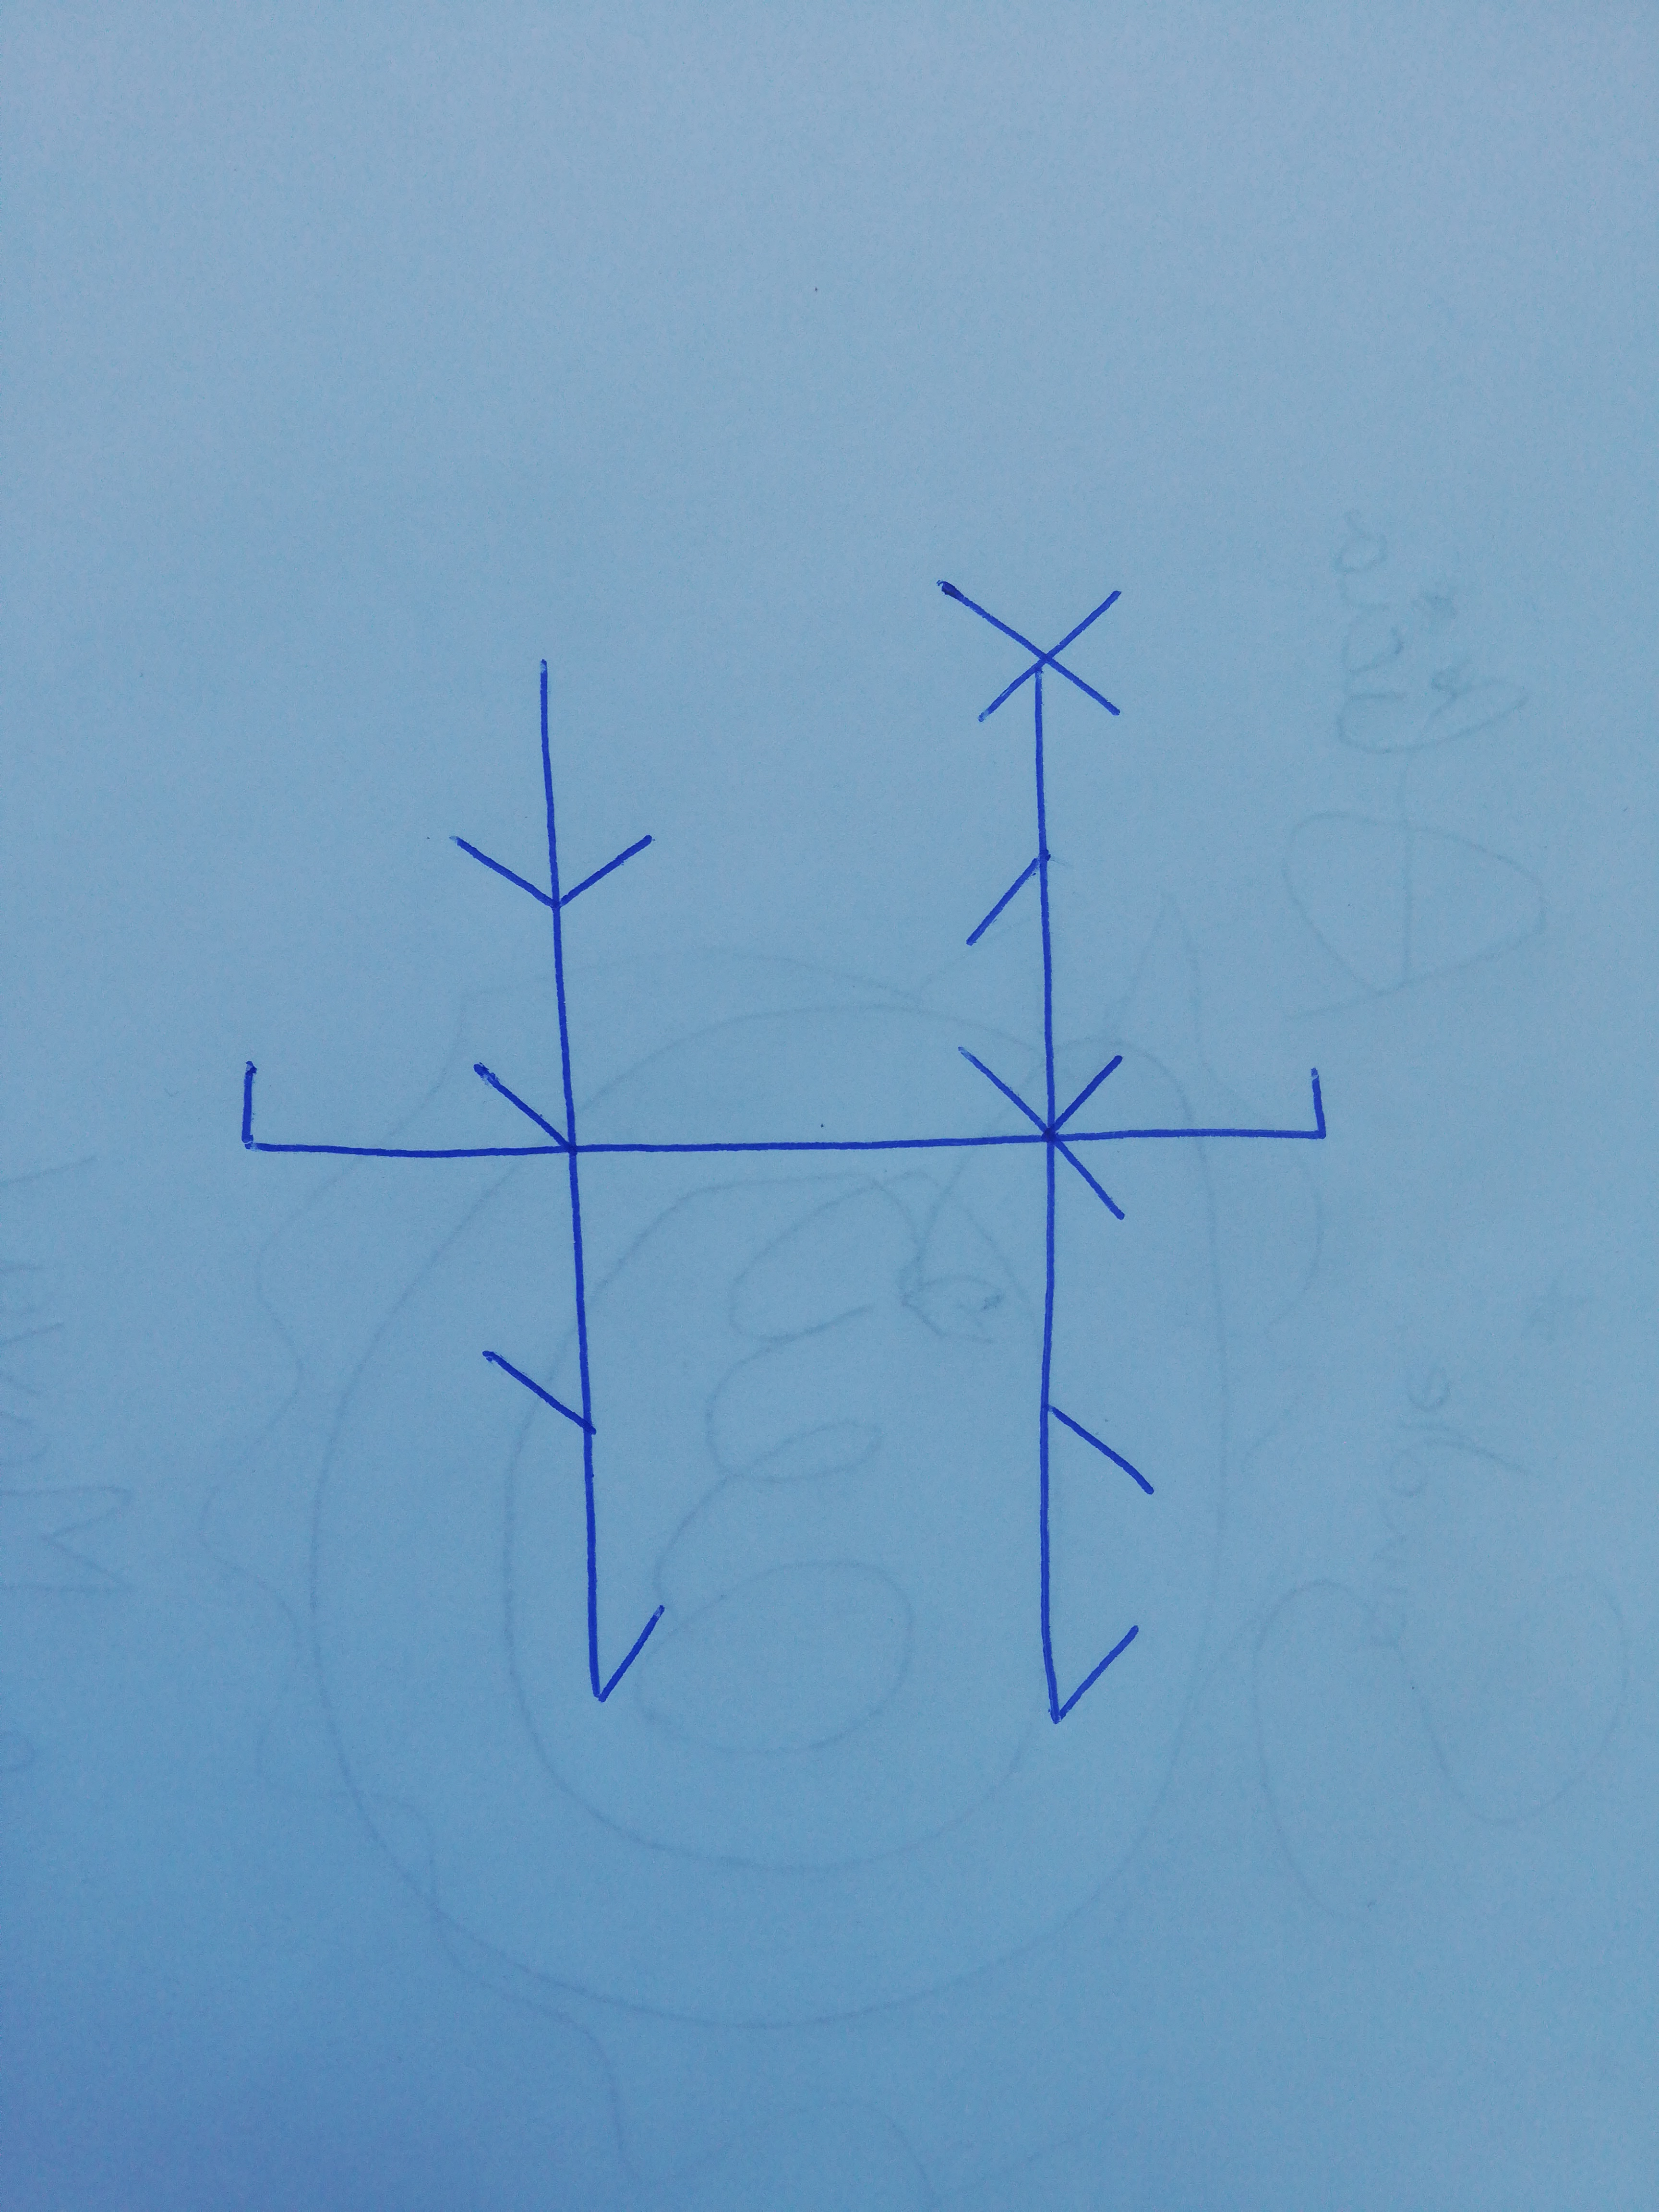Bar: (939, 580, 1152, 1719), (450, 657, 667, 1702)
Barcode: (240, 577, 1326, 1721)
End: (1117, 1068, 1326, 1144)
Start: (239, 1064, 465, 1160)
